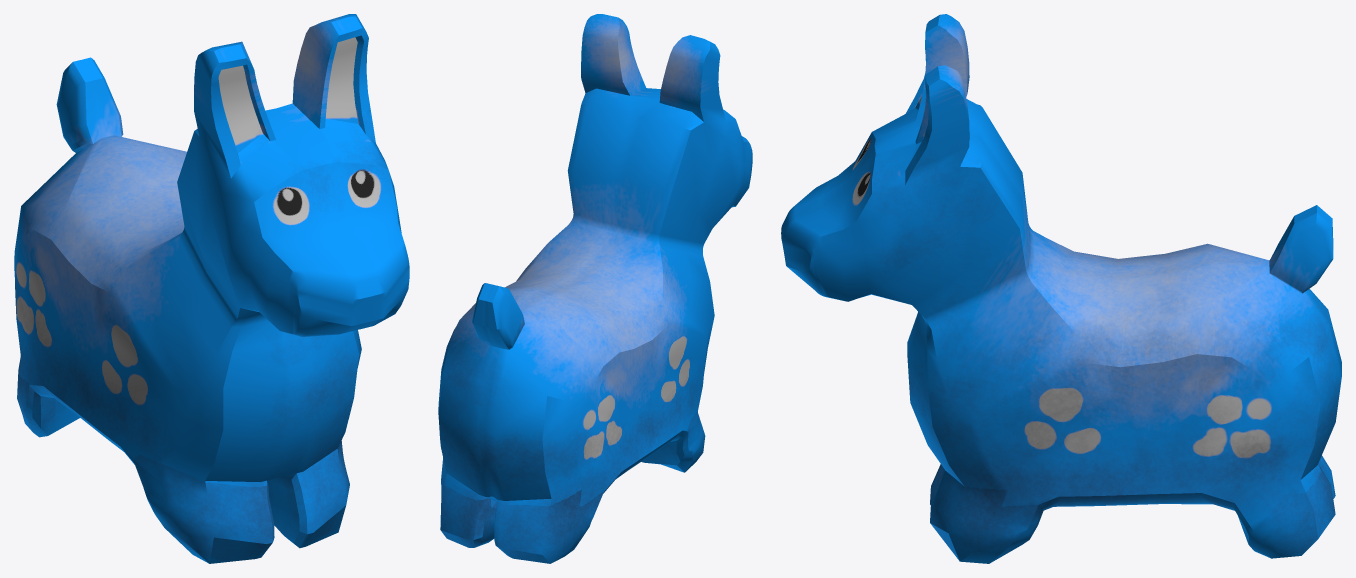
Rendered from SALTARIN CON CORTES.fbx.
3 views of the same model, side by side, from view 1: azimuth 30°, elevation 25°; view 2: azimuth 150°, elevation 25°; view 3: azimuth 270°, elevation 25° (orthographic). The views are drawn at different scales.
Visible parts, largest first — view 1: Cube; view 2: Cube; view 3: Cube.
Part boxes in pixels (x1,y1,x2,y2): Cube: [14, 14, 409, 563]; Cube: [438, 14, 752, 563]; Cube: [781, 14, 1341, 563].
Bounding box in the file's own units: 91.64 × 229 × 237.
Materials: 1 (1 with a texture image).
